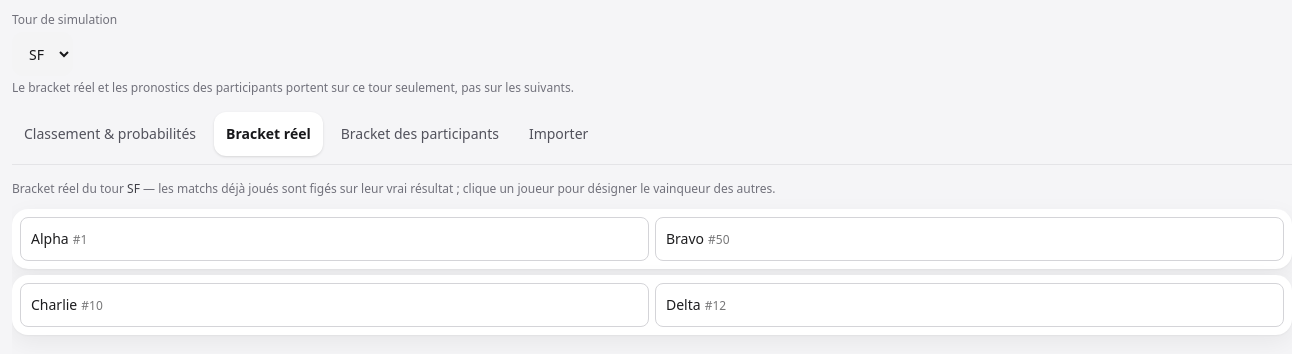
Test: SimulateurBracket › bloc 1 : changer le tour de simulation met à jour l’affichage du bloc 2
Expected: the element with test id "bracket-reel-round" shows "Bracket réel du tour SF", [12, 180, 776, 197]
Expected: the button "Alpha#1" is shown, [20, 217, 649, 261]
Select "F" in the dropdown labelled "Tour de simulation" at (42, 54), box [12, 32, 73, 76]
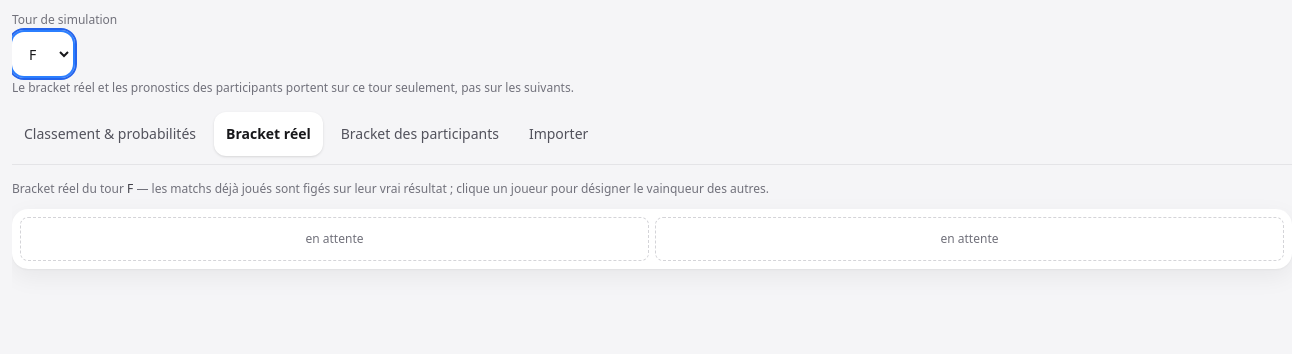
Now the element with test id "bracket-reel-round" shows "Bracket réel du tour F", box [12, 180, 769, 197]
Now the button "Alpha" is gone
Now the text "en attente" is shown 2 times, box [20, 217, 649, 261]; [655, 217, 1284, 261]
